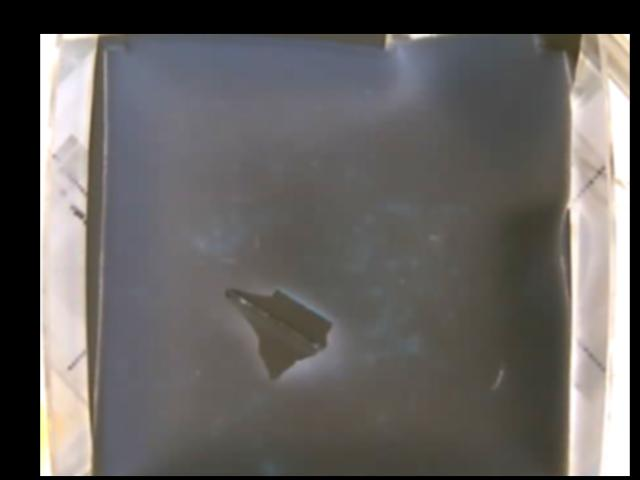China: (225, 282, 334, 378)
